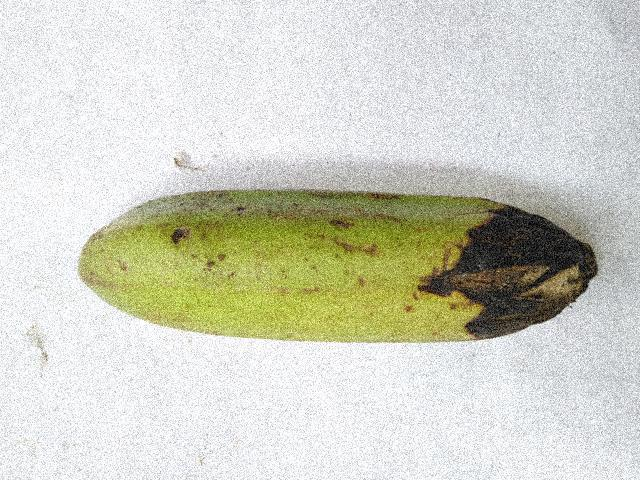rotten: (415, 179, 598, 359)
